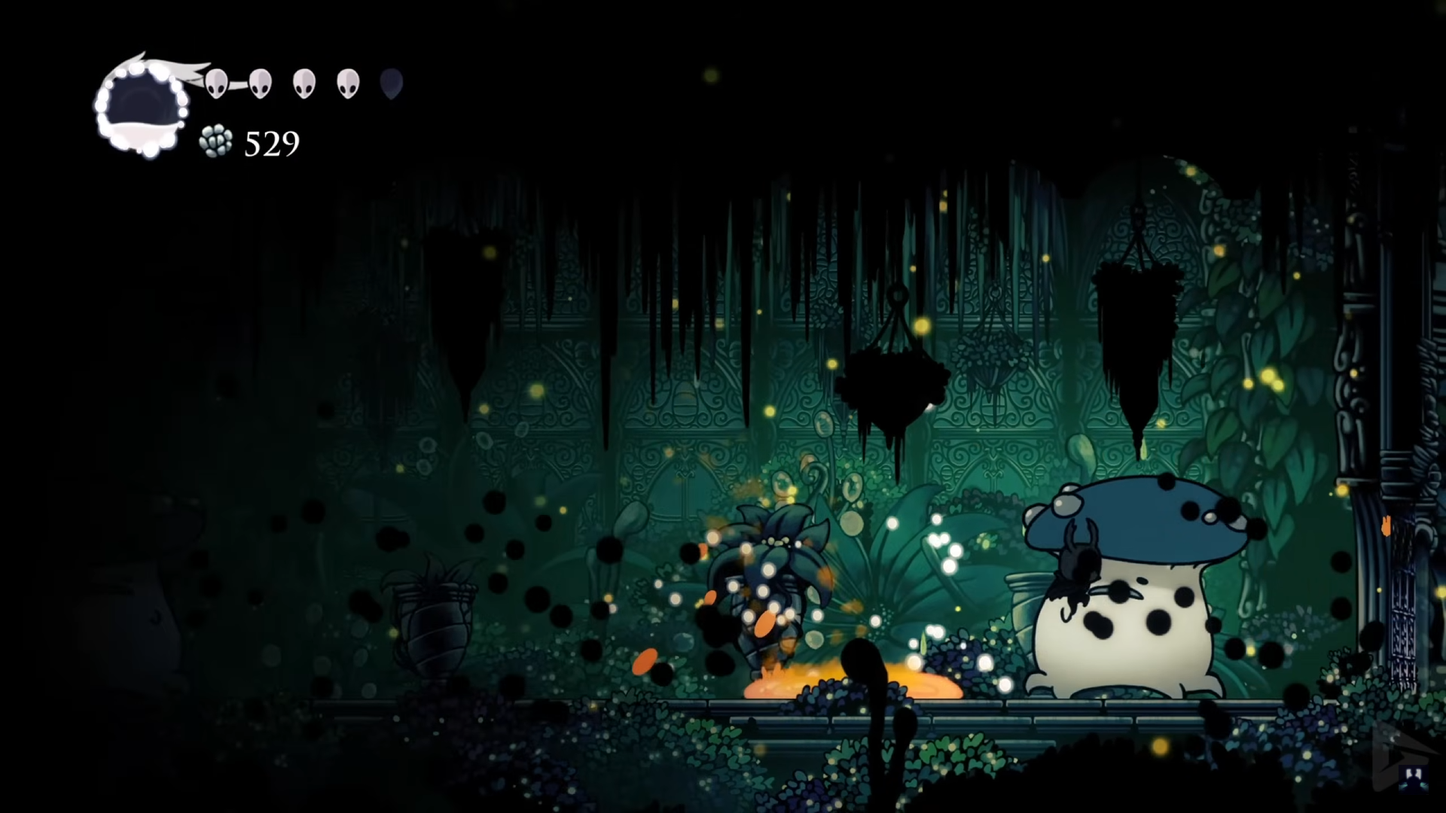HK: (1054, 516, 1107, 619)
